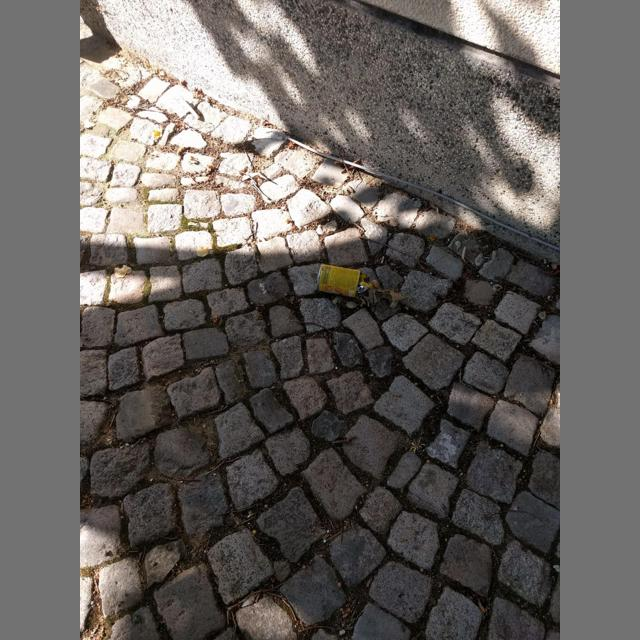litter: (317, 265, 361, 298), (358, 273, 374, 294)
